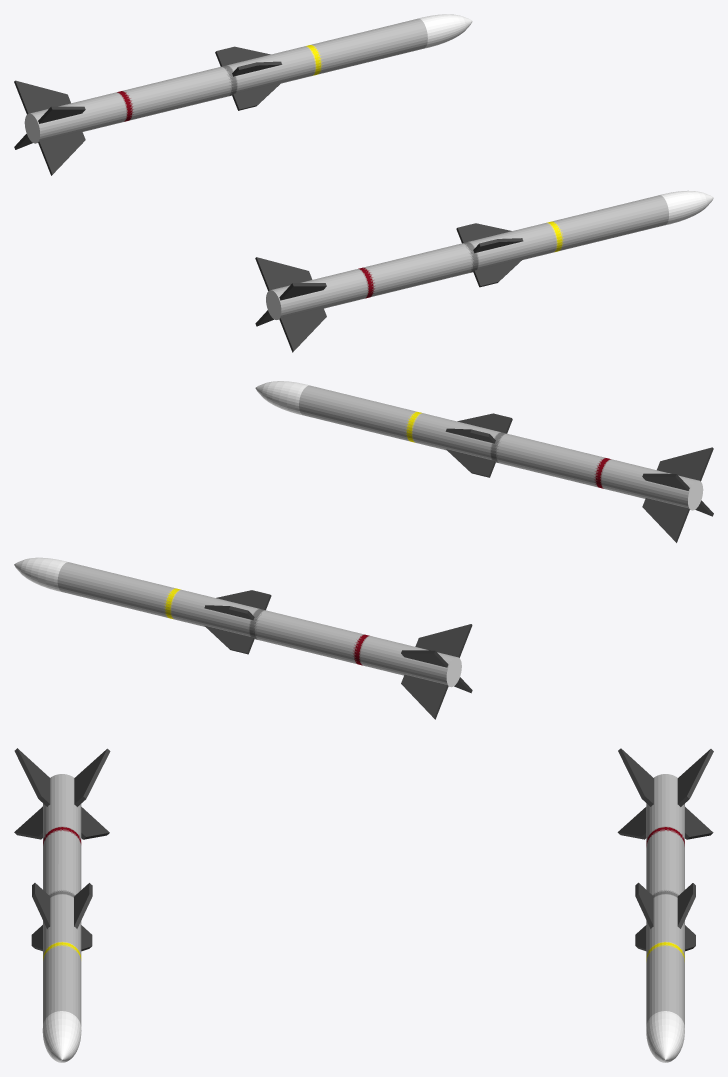
The model's file is aam4lf15j27.glb.
The picture shows the model from 3 angles, top to bottom: view 1: azimuth 30°, elevation 25°; view 2: azimuth 150°, elevation 25°; view 3: azimuth 270°, elevation 25°; orthographic projection. The views are drawn at different scales.
Parts seen in each view (by area): view 1: 球.002, 球.003; view 2: 球.003, 球.002; view 3: 球.002, 球.003.
Boxes of the visible parts, x1,y1,x2,y2 form: 球.002: (255, 190, 713, 352); 球.003: (14, 14, 472, 175); 球.003: (14, 557, 472, 719); 球.002: (255, 381, 713, 542); 球.002: (14, 748, 110, 1062); 球.003: (617, 748, 713, 1062).
Bounding box in the file's own units: 4.72 × 0.7149 × 5.19.
Materials: 3 (1 with a texture image).
